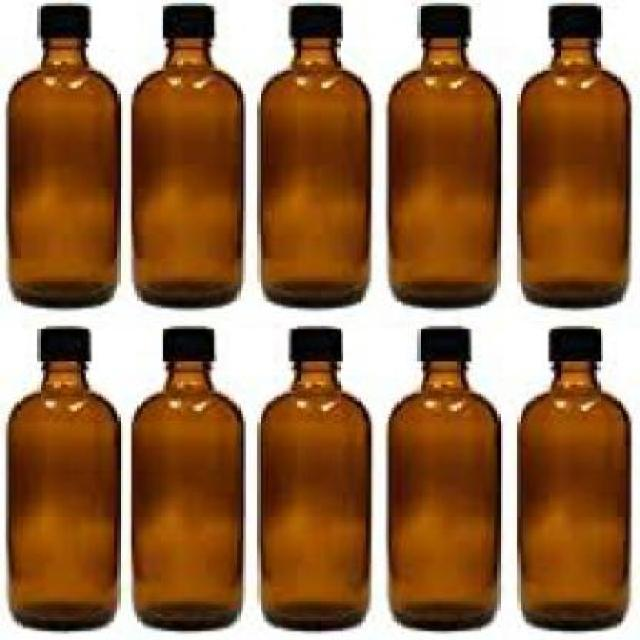kaca: (128, 32, 243, 305), (383, 36, 500, 304), (514, 358, 629, 628), (128, 358, 243, 628), (6, 358, 120, 628), (257, 358, 369, 628), (257, 36, 369, 304), (517, 32, 626, 305), (6, 36, 117, 304), (389, 358, 497, 624)
